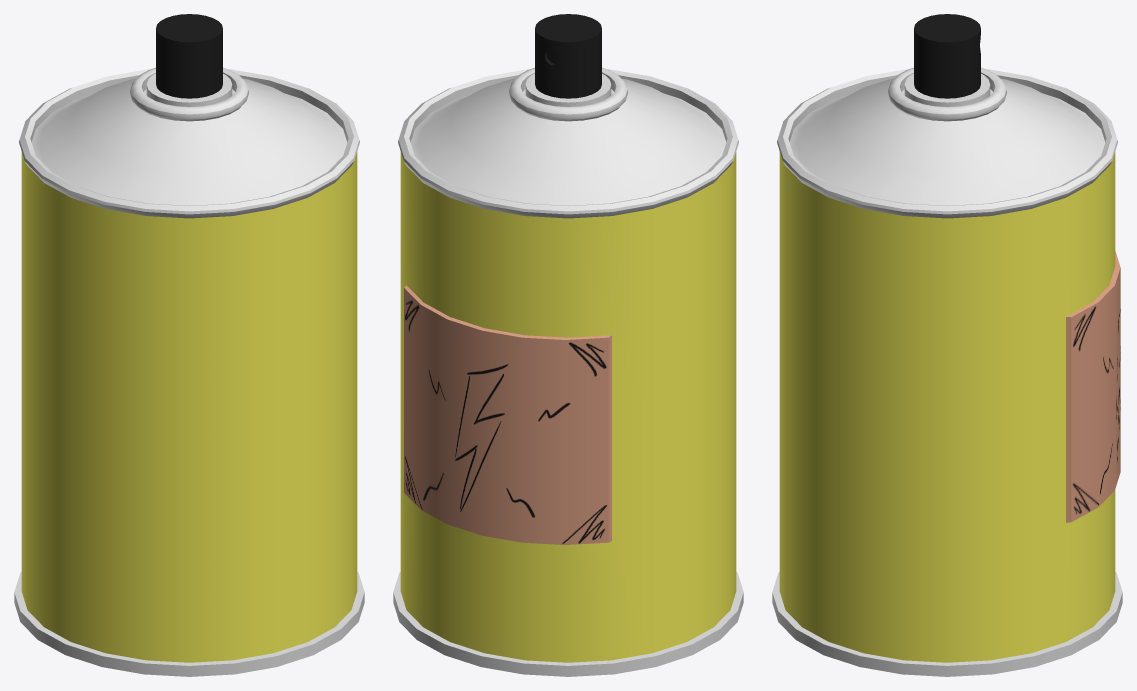
The model's file is sprayAmarelo.fbx.
The picture shows the model from 3 angles, left to right: view 1: azimuth 30°, elevation 25°; view 2: azimuth 150°, elevation 25°; view 3: azimuth 270°, elevation 25°; orthographic projection.
Parts seen in each view (by area): view 1: Spray; view 2: Spray; view 3: Spray.
Part boxes in pixels (x1,y1,x2,y2): Spray: (14, 14, 364, 676); Spray: (393, 14, 743, 676); Spray: (772, 14, 1122, 676).
Bounding box in the file's own units: 45.88 × 83.07 × 45.88.
